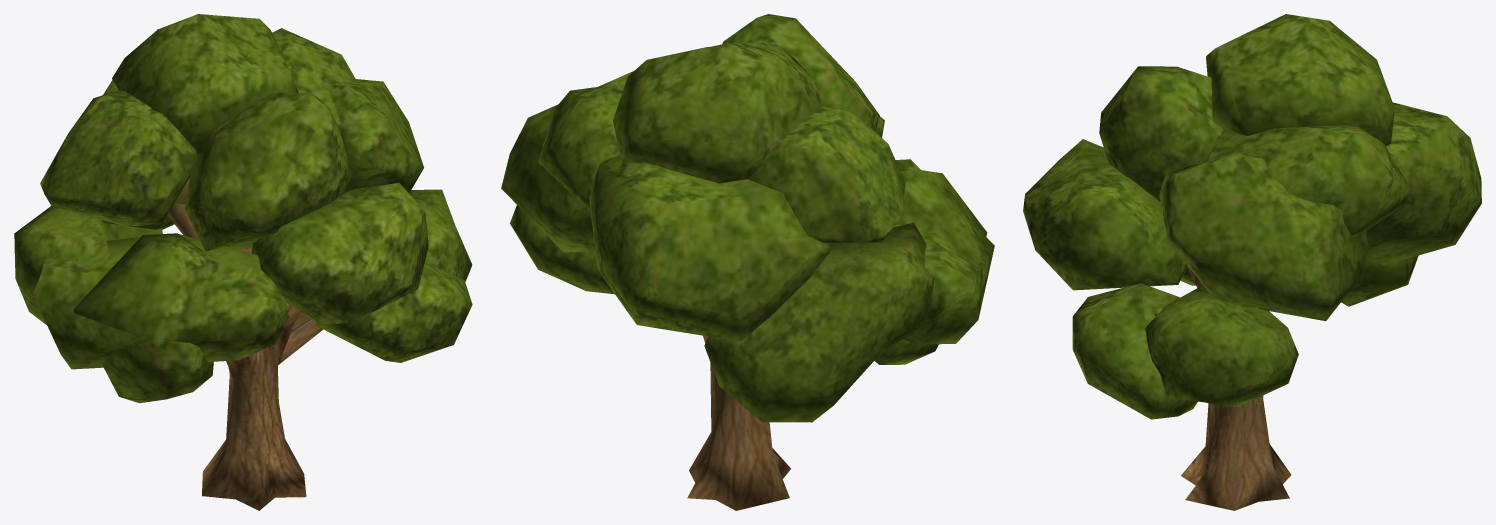
The model's file is tree-maple-01.glb.
3 renders of one model, left to right at view 1: azimuth 30°, elevation 25°; view 2: azimuth 150°, elevation 25°; view 3: azimuth 270°, elevation 25°, orthographic. The views are drawn at different scales.
Size of the model in its own units: 0.9526 by 0.9531 by 0.8643.
1 material, 1 textured.
